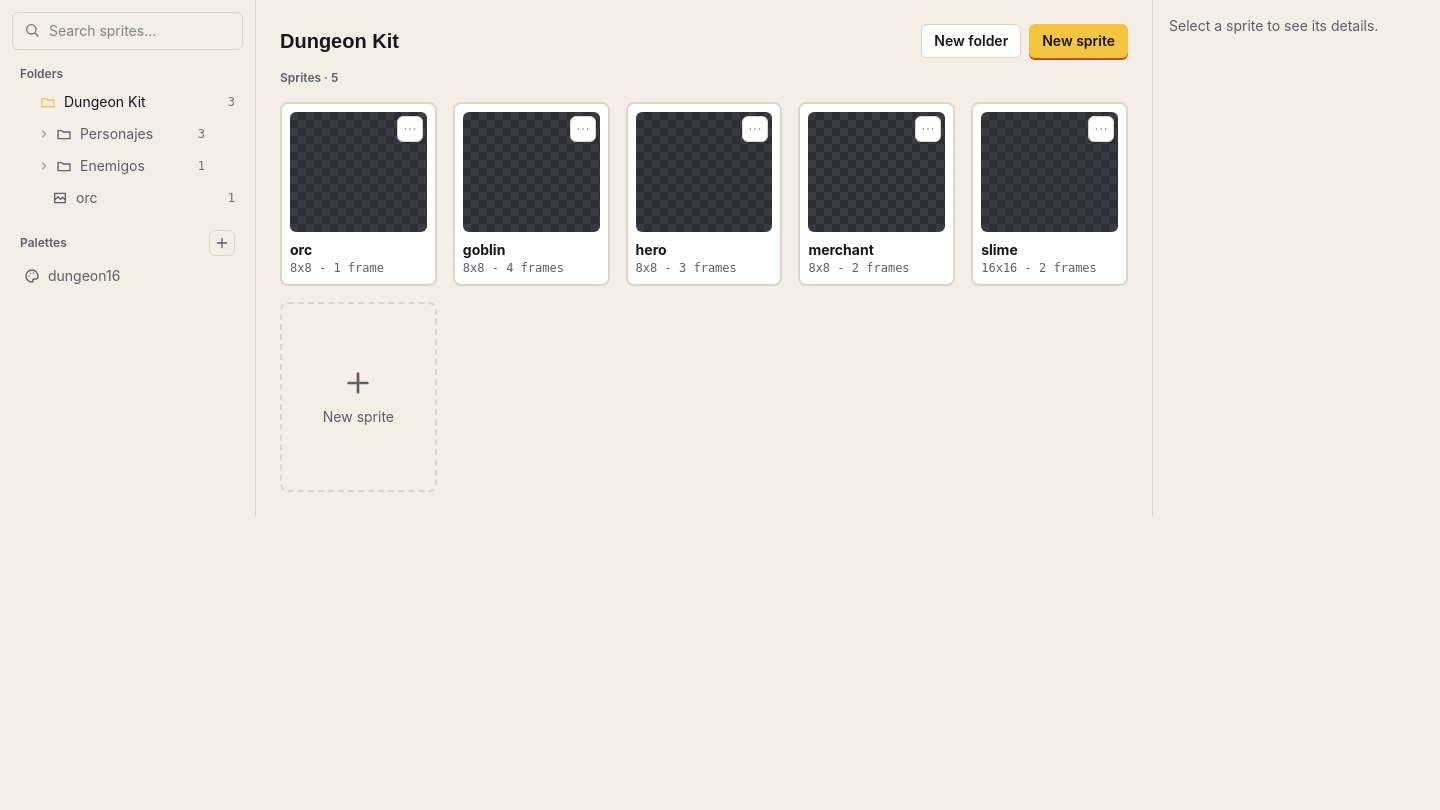
Test case: New sprite dialog › starts warning at 128
The width and height of the screenshot is (1440, 810).
Click the 1st button "New sprite". click: (1079,41)
box: [1029,24,1128,58]
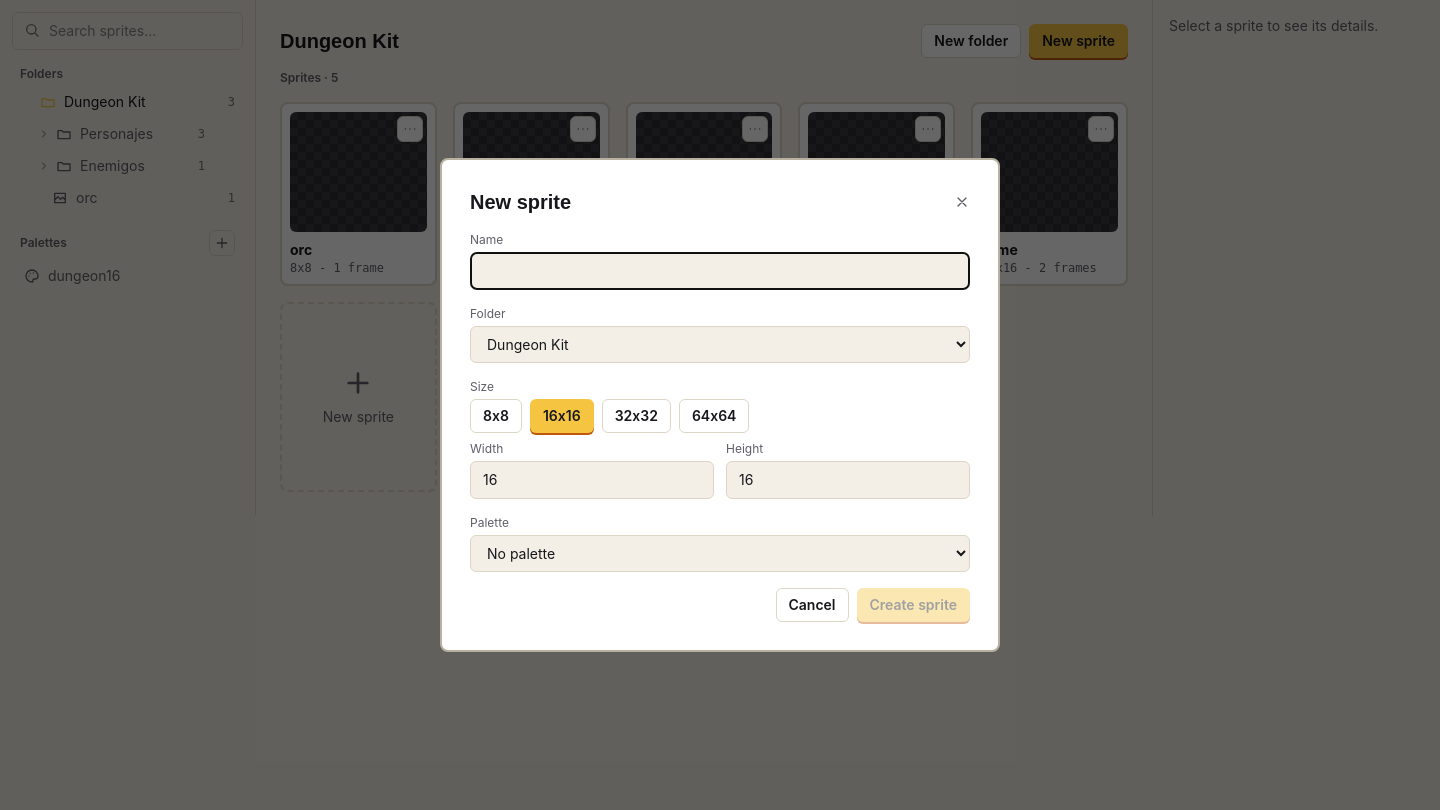
Replace the text in the number field labelled "Width" with "127". click: (592,480)
box: [470,461,714,499]
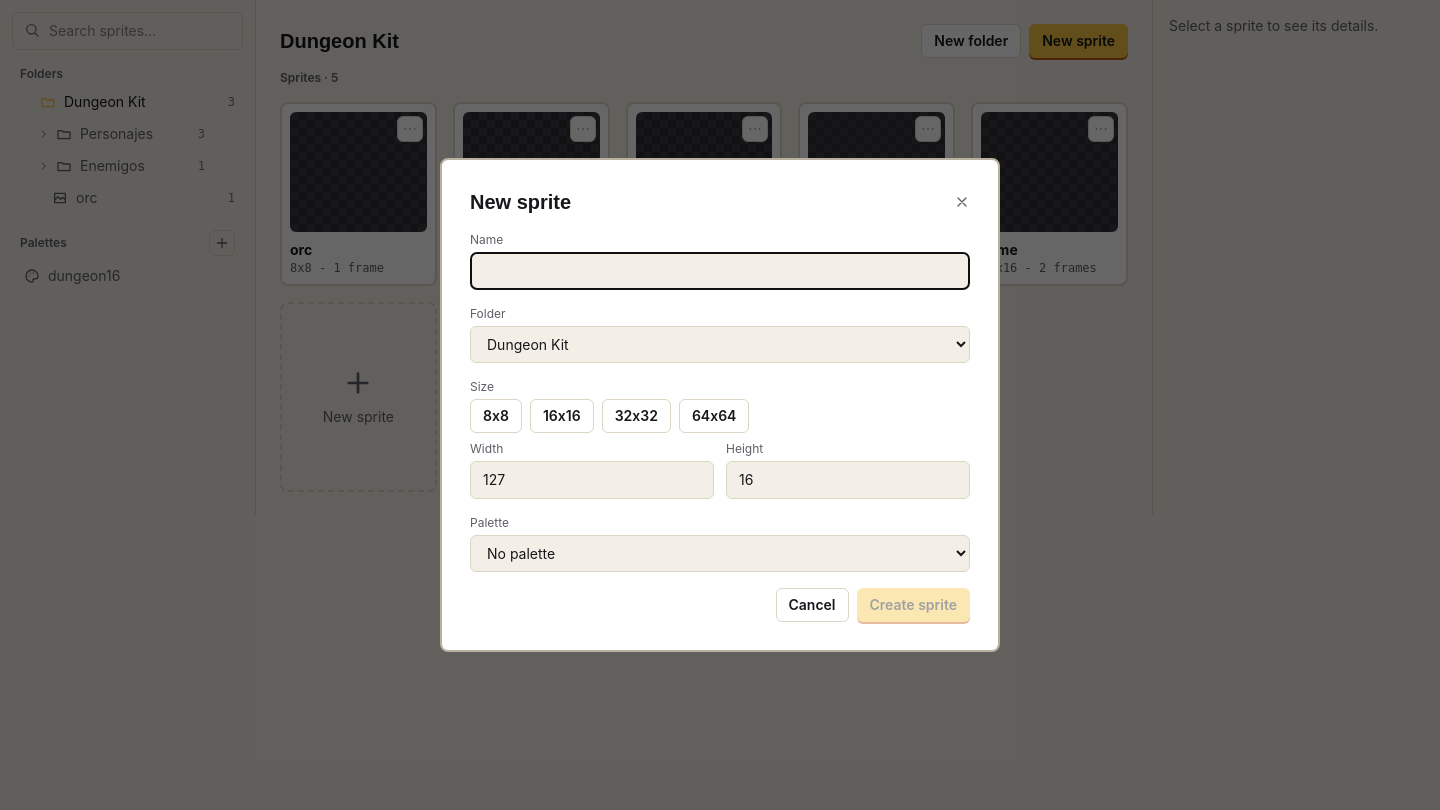
Expected: the text "Large sizes" is not shown
Replace the text in the number field labelled "Width" with "128". click: (592,480)
box: [470,461,714,499]
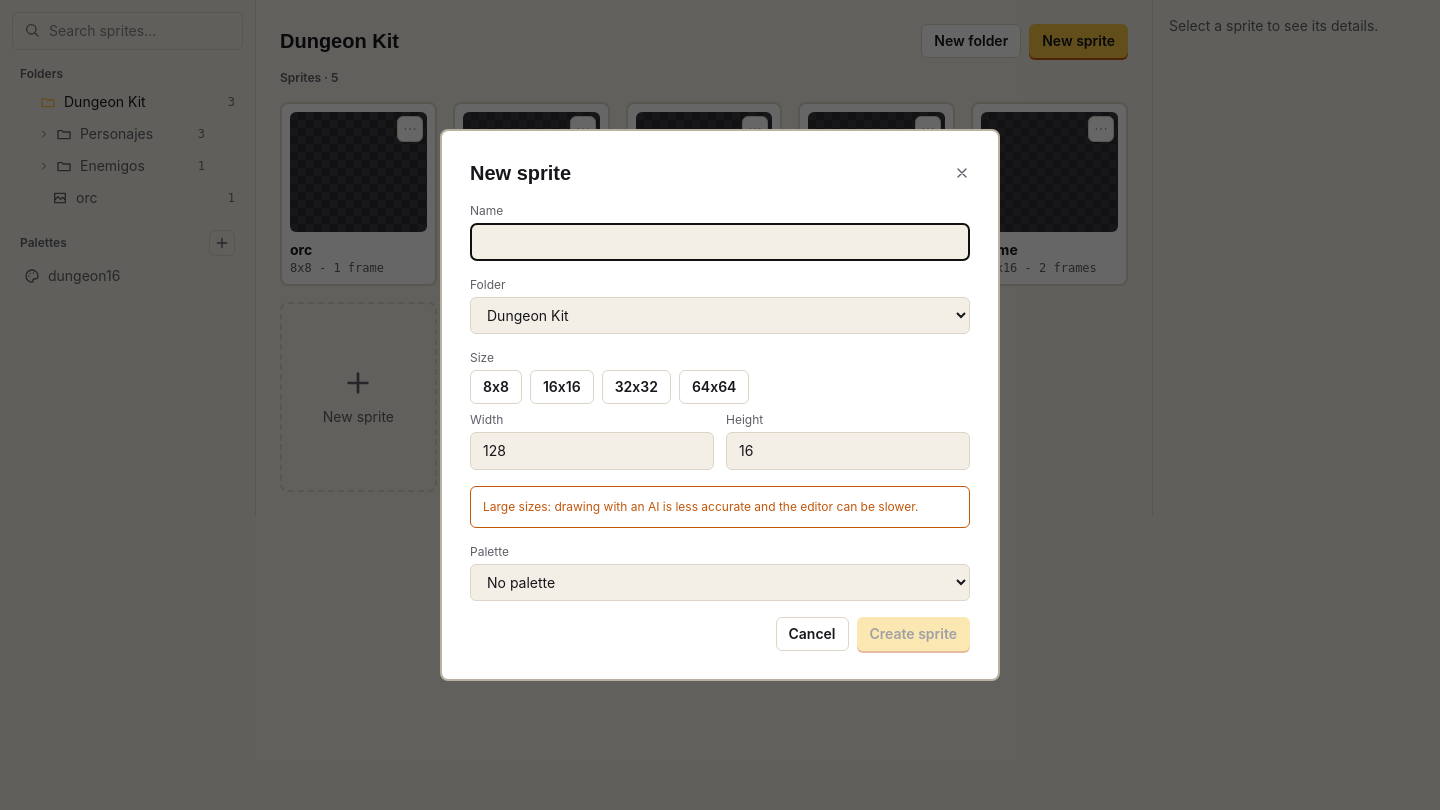
Expected: the text "Large sizes: drawing with an AI is less accurate and the editor can be slower." is shown, [470,486,970,528]
